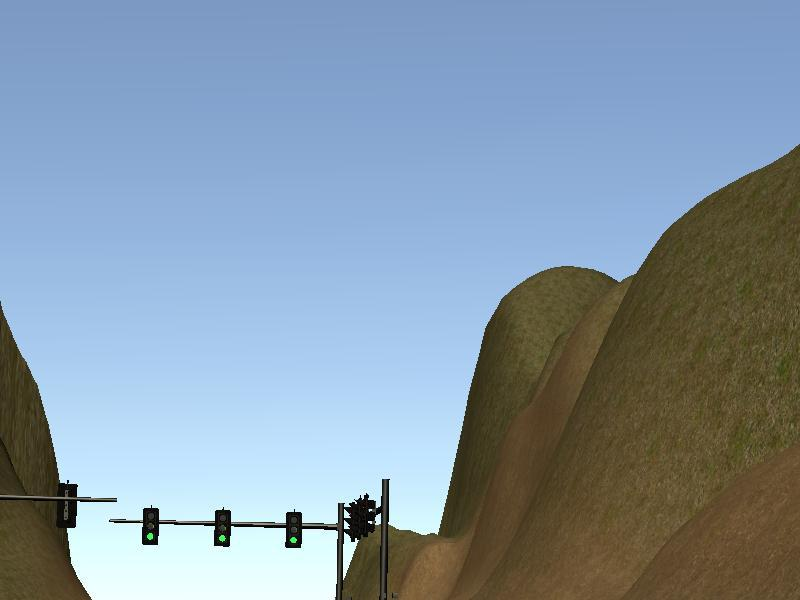Green: (142, 506, 158, 543), (214, 510, 230, 545), (287, 512, 301, 547)
